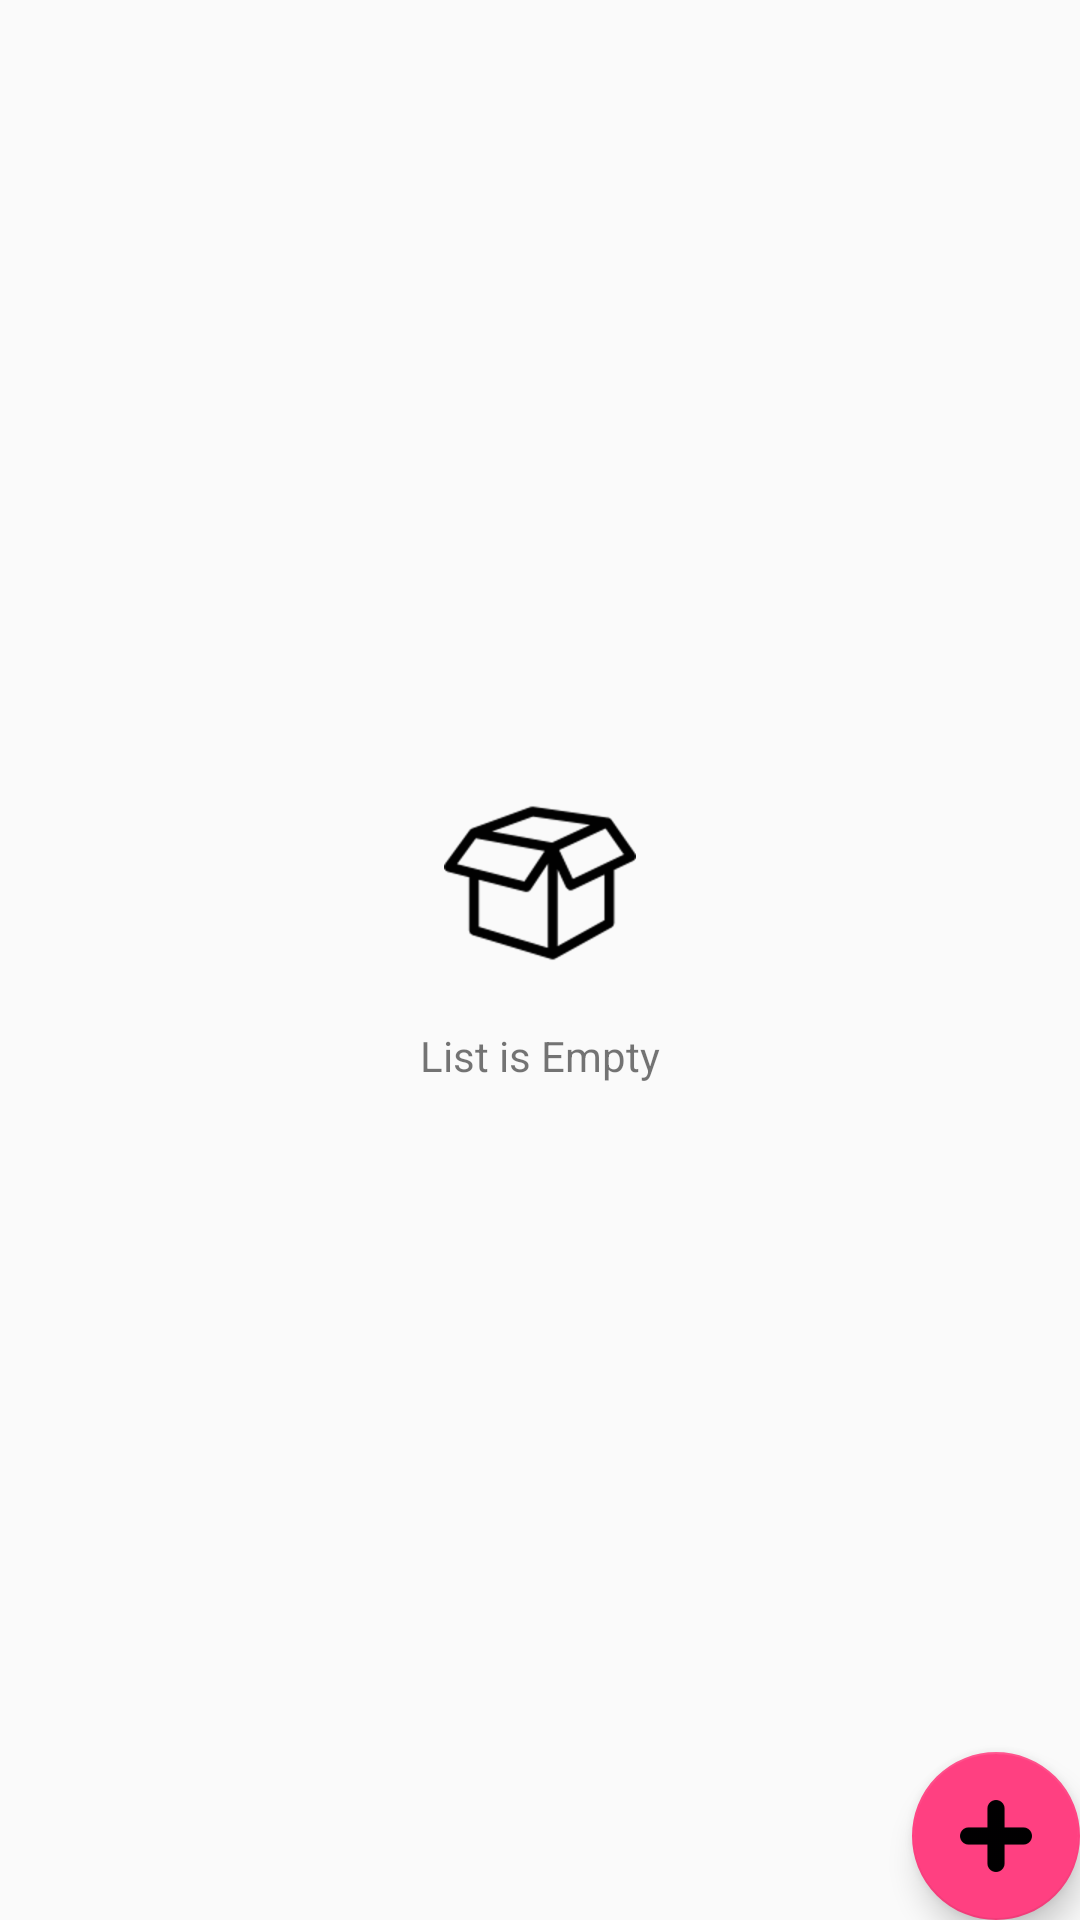

Named icons in this screenshot (1080x1920) and their centers, point (x, y):
add: point (996, 1836)
empty inventory: point (540, 883)
